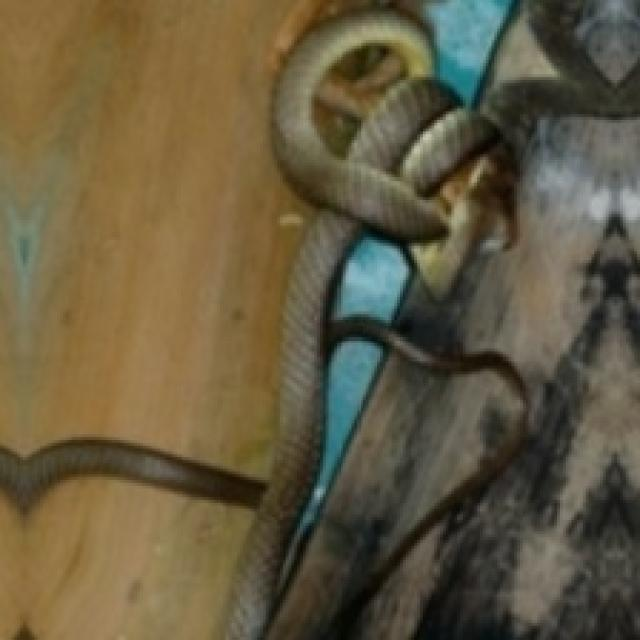paradise tree snake: (0, 4, 640, 639)
